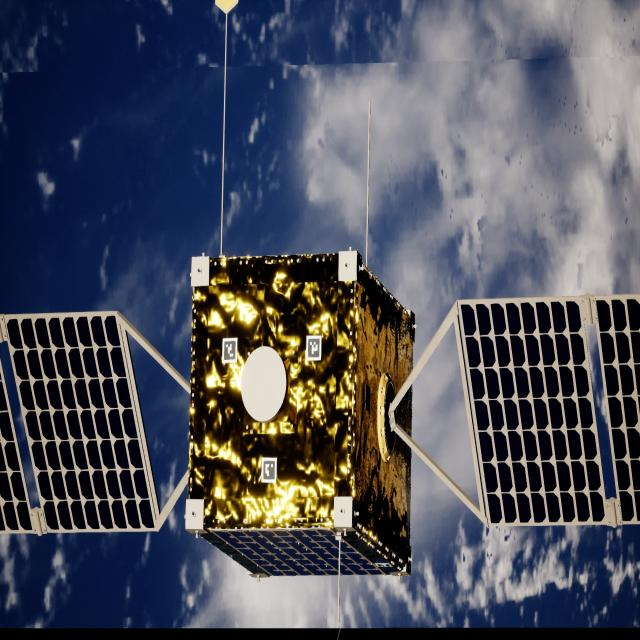medium_debris: (0, 251, 640, 578)
